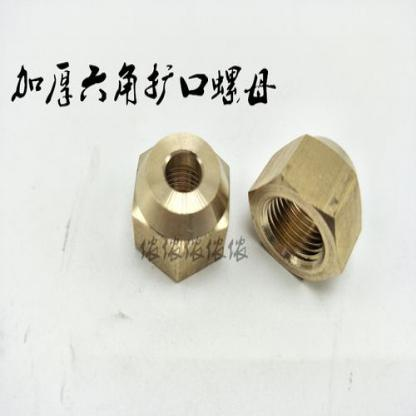FOD: (248, 133, 364, 287), (130, 129, 231, 288)
